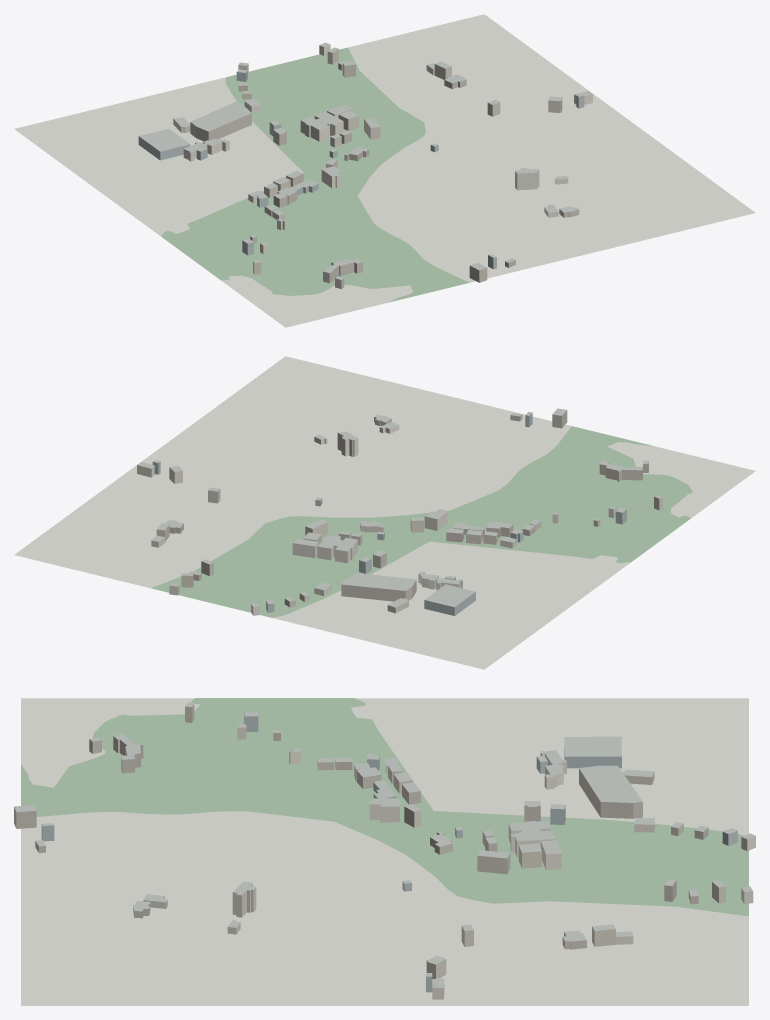
3 renders of one model, top to bottom at view 1: azimuth 30°, elevation 25°; view 2: azimuth 150°, elevation 25°; view 3: azimuth 270°, elevation 25°, orthographic. The views are drawn at different scales.
Parts seen in each view (by area): view 1: city; view 2: city; view 3: city.
Part boxes in pixels (x1=…): city: x1=14, y1=14, x2=755, y2=327; city: x1=14, y1=356, x2=755, y2=669; city: x1=14, y1=698, x2=755, y2=1005.
Bounding box in the file's own units: 500 × 16.9 × 510.
